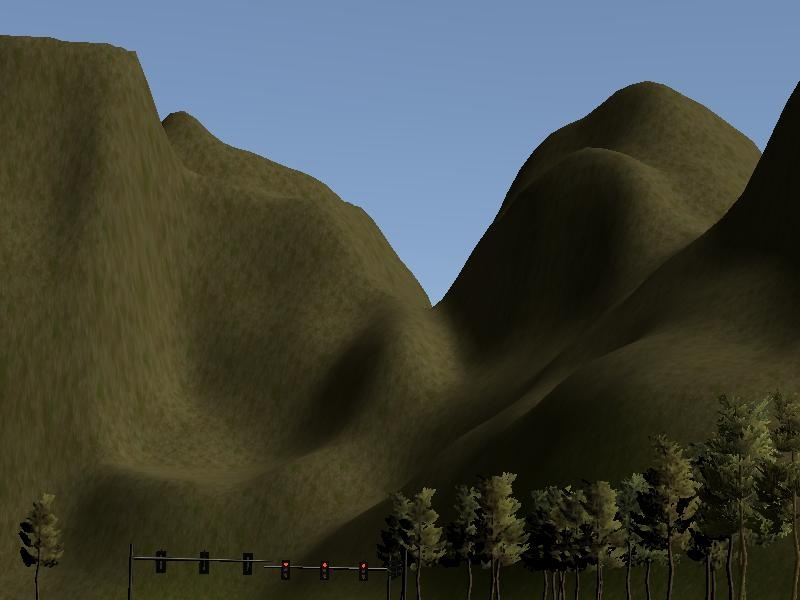red: (318, 559, 331, 584), (357, 557, 369, 584), (280, 559, 291, 583)
